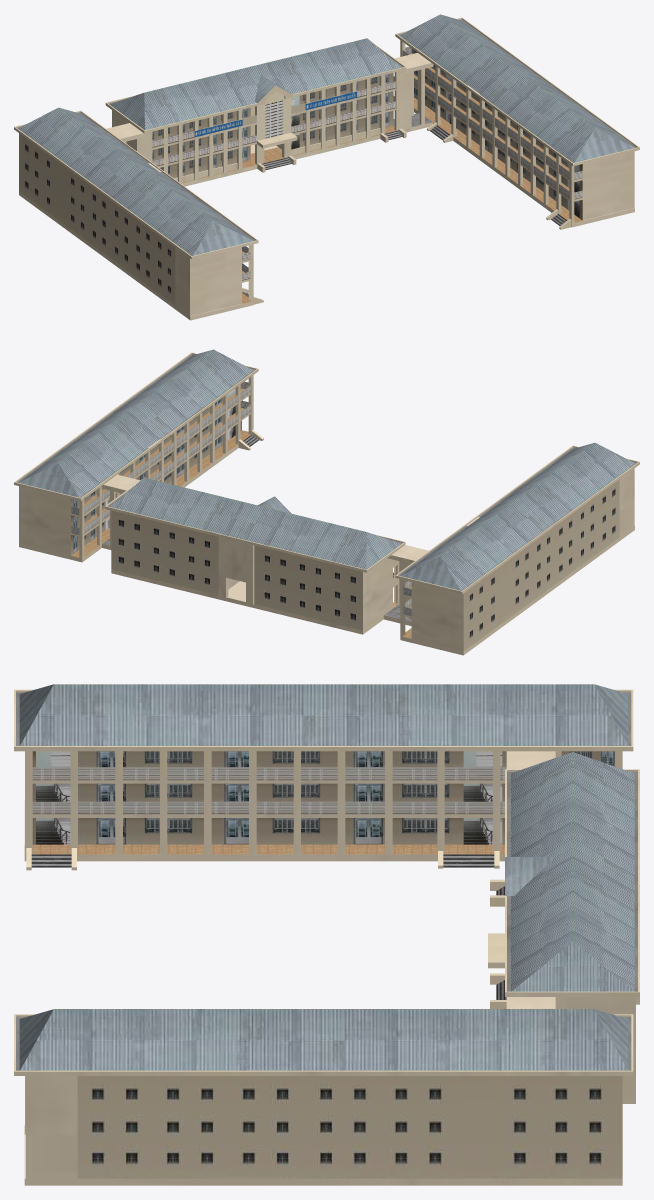
3 views of the same model, one above another, from view 1: azimuth 30°, elevation 25°; view 2: azimuth 150°, elevation 25°; view 3: azimuth 270°, elevation 25° (orthographic). The views are drawn at different scales.
Visible parts, largest first — view 1: DaNa0062_TruongTHCSNgoThiNham; view 2: DaNa0062_TruongTHCSNgoThiNham; view 3: DaNa0062_TruongTHCSNgoThiNham.
Part boxes in pixels (<box>): DaNa0062_TruongTHCSNgoThiNham: <box>14,14,639,320</box>; DaNa0062_TruongTHCSNgoThiNham: <box>14,349,639,655</box>; DaNa0062_TruongTHCSNgoThiNham: <box>14,684,639,1185</box>.
Bounding box in the file's own units: 83.79 × 15.34 × 58.07.
1 material, 1 textured.
